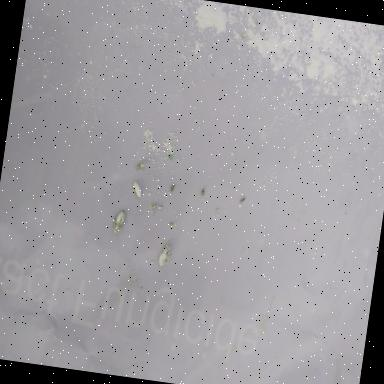pbw: (130, 180, 144, 198), (133, 160, 146, 172), (148, 204, 156, 210)
